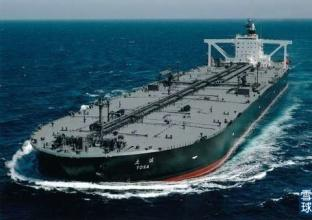Cargoship: (20, 16, 303, 179)
